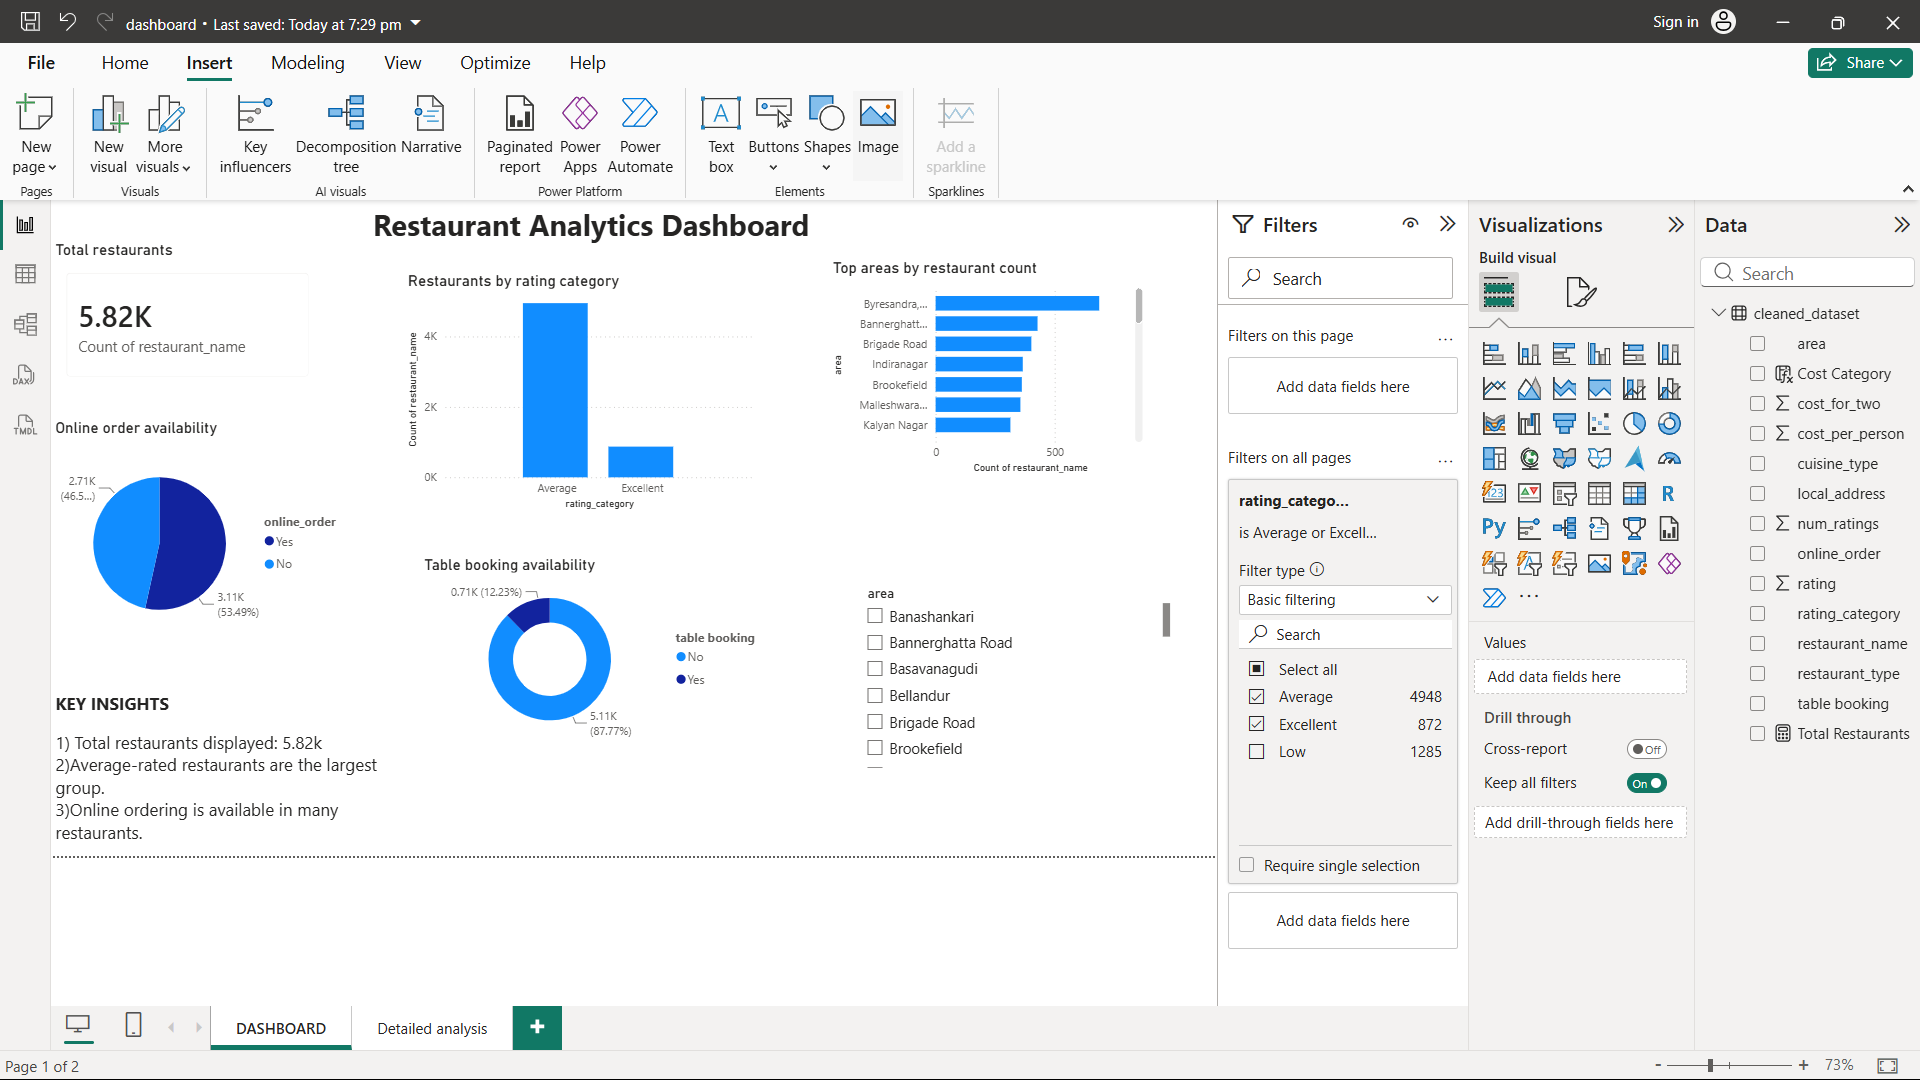

What the dashboard file says about the page in this screenshot:
{"tool":"powerbi","page":{"name":"DASHBOARD","canvas":[1280,720],"ordinal":0},"visuals":[{"type":"textbox","box":[348.5,0,623,64.5],"z":0},{"type":"cardVisual","title":"Total restaurants","fields":{"Data":["CountNonNull(cleaned_dataset.restaurant_name)"]},"box":[0,43.9,300.5,167.4],"z":1},{"type":"clusteredColumnChart","title":"Restaurants by rating category","fields":{"Category":["cleaned_dataset.rating_category"],"Y":["CountNonNull(cleaned_dataset.restaurant_name)"]},"box":[387,78.2,389.7,266.2],"z":2},{"type":"pieChart","title":"Online order availability","fields":{"Category":["cleaned_dataset.online_order"],"Y":["CountNonNull(cleaned_dataset.restaurant_name)"]},"box":[0,240.1,334.8,255.2],"z":3},{"type":"donutChart","title":"Table booking availability","fields":{"Category":["cleaned_dataset.table booking"],"Y":["CountNonNull(cleaned_dataset.restaurant_name)"]},"box":[404.8,389.7,389.7,209.9],"z":4},{"type":"clusteredBarChart","title":"Top areas by restaurant count","fields":{"Category":["cleaned_dataset.area"],"Y":["CountNonNull(cleaned_dataset.restaurant_name)"]},"box":[853.5,64.5,349.9,240.1],"z":5},{"type":"slicer","fields":{"Values":["cleaned_dataset.area"]},"box":[883.7,418.5,349.9,209.9],"z":6},{"type":"textbox","box":[0,535.2,387,185.2],"z":7}]}

Visuals, with their boxes on the page's 1280x720 design canvas (x1, y1, x2, y2). These are canvas units, not pixel positions in the 1920x1080 screenshot, which may show the page scaled, cropped or inside an application window:
textbox: <bbox>348, 0, 972, 64</bbox>
"Total restaurants" cardVisual: <bbox>0, 44, 300, 211</bbox>
"Restaurants by rating category" clusteredColumnChart: <bbox>387, 78, 777, 344</bbox>
"Online order availability" pieChart: <bbox>0, 240, 335, 495</bbox>
"Table booking availability" donutChart: <bbox>405, 390, 794, 600</bbox>
"Top areas by restaurant count" clusteredBarChart: <bbox>854, 64, 1203, 305</bbox>
slicer - cleaned_dataset.area: <bbox>884, 418, 1234, 628</bbox>
textbox: <bbox>0, 535, 387, 720</bbox>
